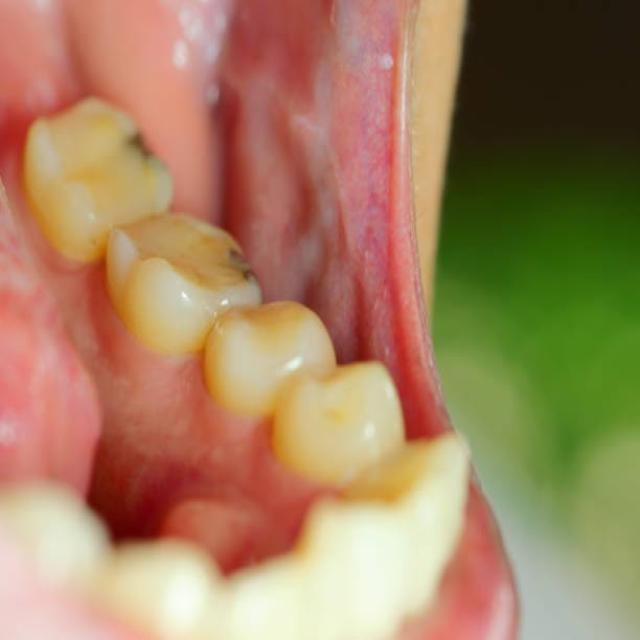caries: (232, 232, 274, 303), (128, 127, 164, 176)
